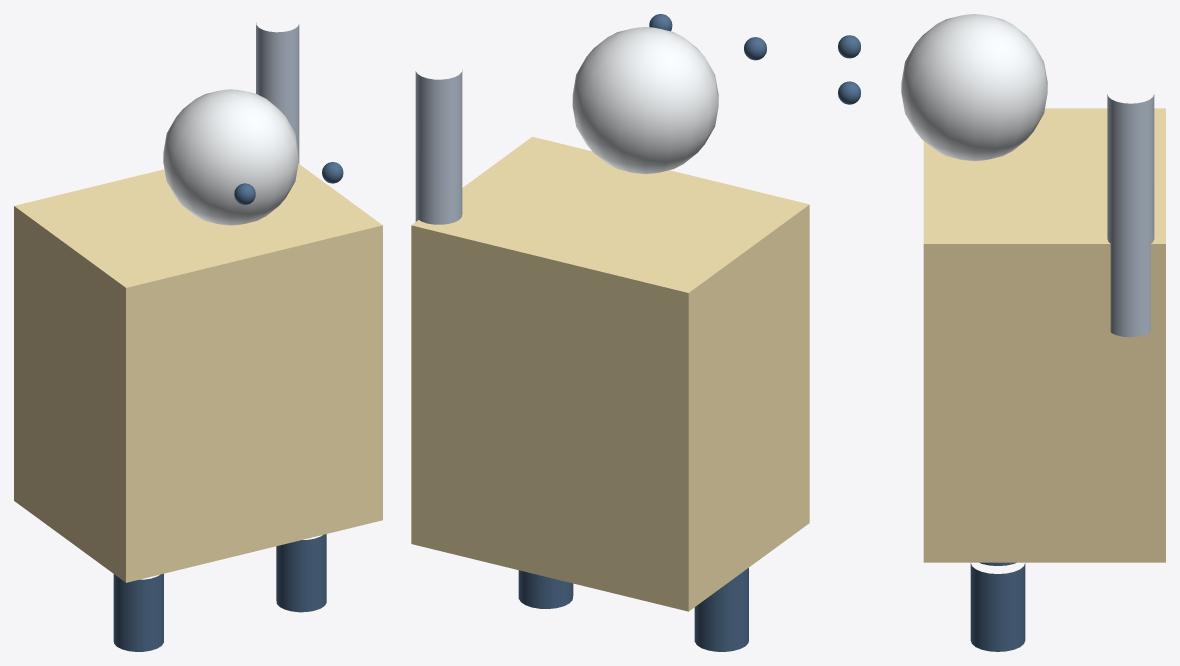
The model's file is tiny-factory-friend.glb.
3 views of the same model, side by side, from view 1: azimuth 30°, elevation 25°; view 2: azimuth 150°, elevation 25°; view 3: azimuth 270°, elevation 25° (orthographic). The views are drawn at different scales.
Visible parts, largest first — view 1: tiny-factory-friend-body, tiny-factory-friend-head, tiny-factory-friend-chimney, tiny-factory-friend-left-foot, tiny-factory-friend-right-foot; view 2: tiny-factory-friend-body, tiny-factory-friend-head, tiny-factory-friend-chimney, tiny-factory-friend-left-foot, tiny-factory-friend-right-foot; view 3: tiny-factory-friend-body, tiny-factory-friend-head, tiny-factory-friend-chimney, tiny-factory-friend-right-foot.
Part boxes in pixels (<box>): tiny-factory-friend-body: <box>14,163,382,582</box>; tiny-factory-friend-head: <box>163,89,298,225</box>; tiny-factory-friend-chimney: <box>256,22,299,163</box>; tiny-factory-friend-left-foot: <box>113,573,163,651</box>; tiny-factory-friend-right-foot: <box>276,534,326,612</box>; tiny-factory-friend-body: <box>411,137,809,611</box>; tiny-factory-friend-head: <box>572,27,718,174</box>; tiny-factory-friend-chimney: <box>415,70,462,224</box>; tiny-factory-friend-left-foot: <box>694,568,748,651</box>; tiny-factory-friend-right-foot: <box>518,570,573,608</box>; tiny-factory-friend-body: <box>923,108,1165,562</box>; tiny-factory-friend-head: <box>901,14,1047,161</box>; tiny-factory-friend-chimney: <box>1107,94,1154,337</box>; tiny-factory-friend-right-foot: <box>970,563,1025,651</box>.
Bounding box in the file's own units: 0.85 × 1.63 × 0.8395.
